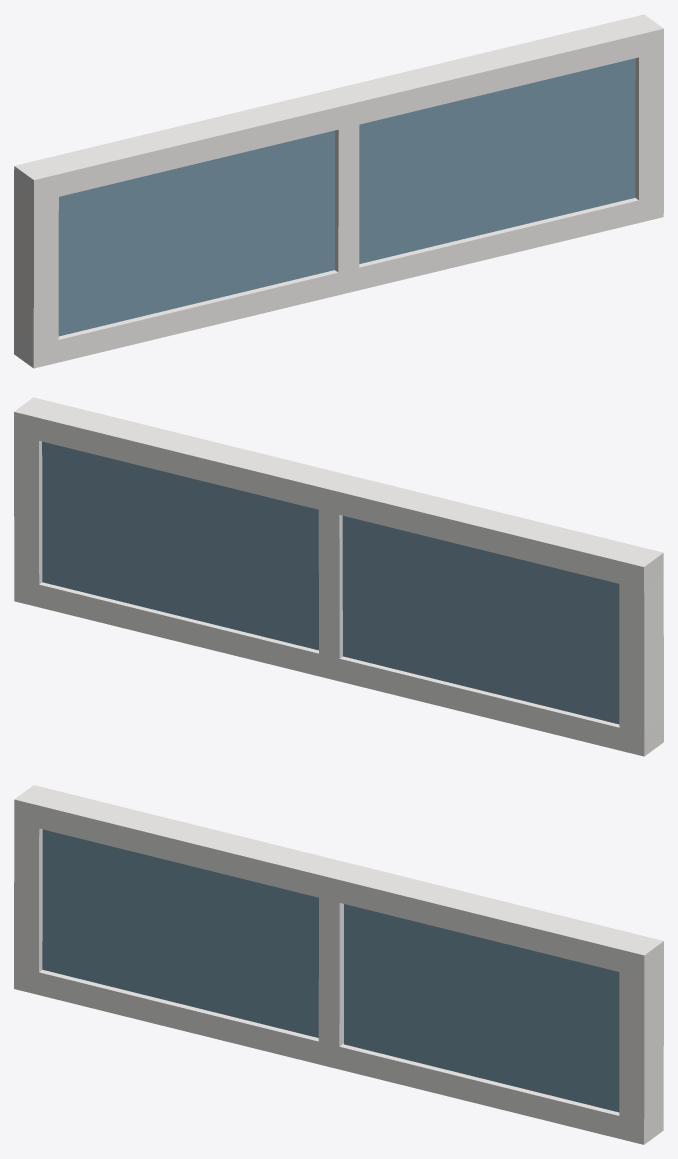
Rendered from Window_11.fbx.
The picture shows the model from 3 angles, top to bottom: view 1: azimuth 30°, elevation 25°; view 2: azimuth 150°, elevation 25°; view 3: azimuth 330°, elevation 25°; orthographic projection.
Parts seen in each view (by area): view 1: Window_11; view 2: Window_11; view 3: Window_11.
Boxes of the visible parts, bbox=[...] form: Window_11: bbox=[14, 14, 663, 368]; Window_11: bbox=[14, 397, 663, 756]; Window_11: bbox=[14, 785, 663, 1144].
Bounding box in the file's own units: 300 × 17.86 × 85.91.
